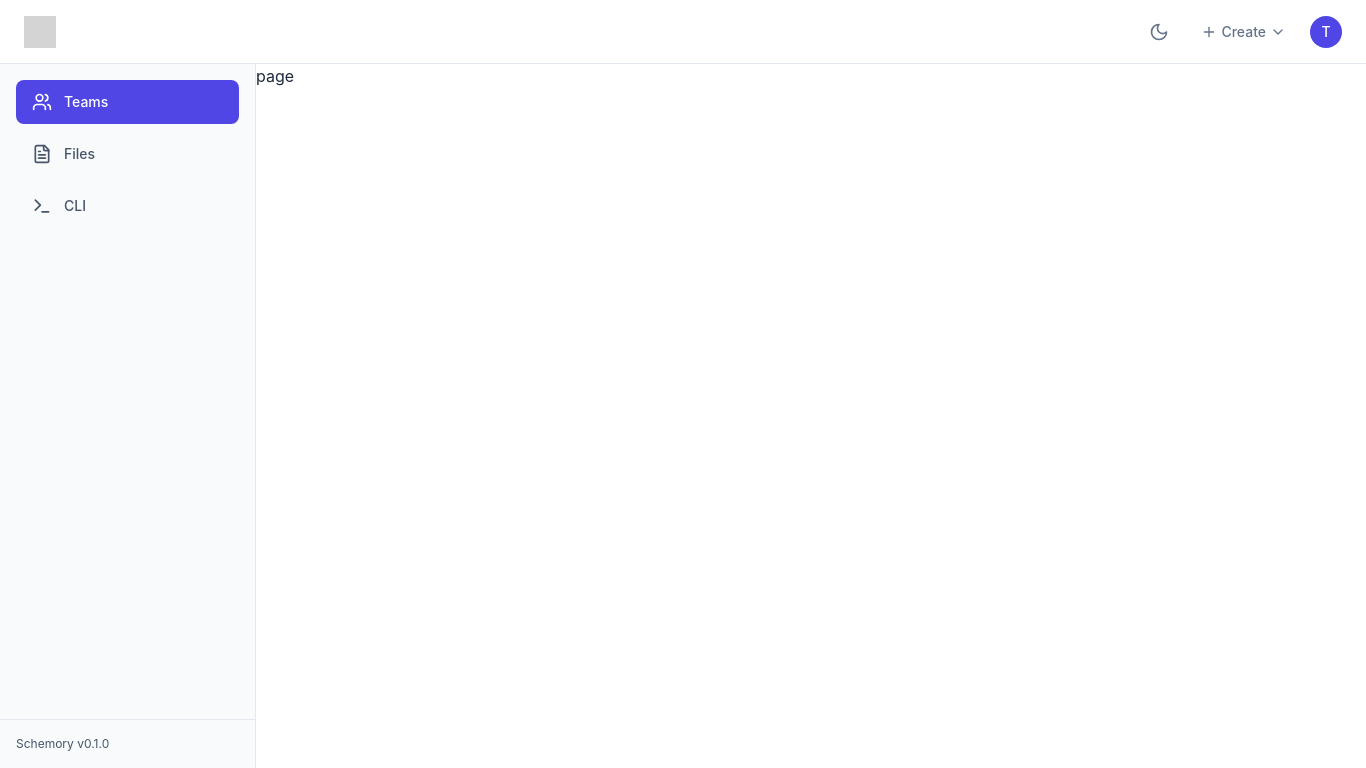
Test: Layout + Create actions wiring › opens Create Team modal from header without Layout overriding handlers
This screenshot has width=1366, height=768.
Click the button with aria-label "Create new".
click(1244, 32)  # box [1193,14,1294,50]
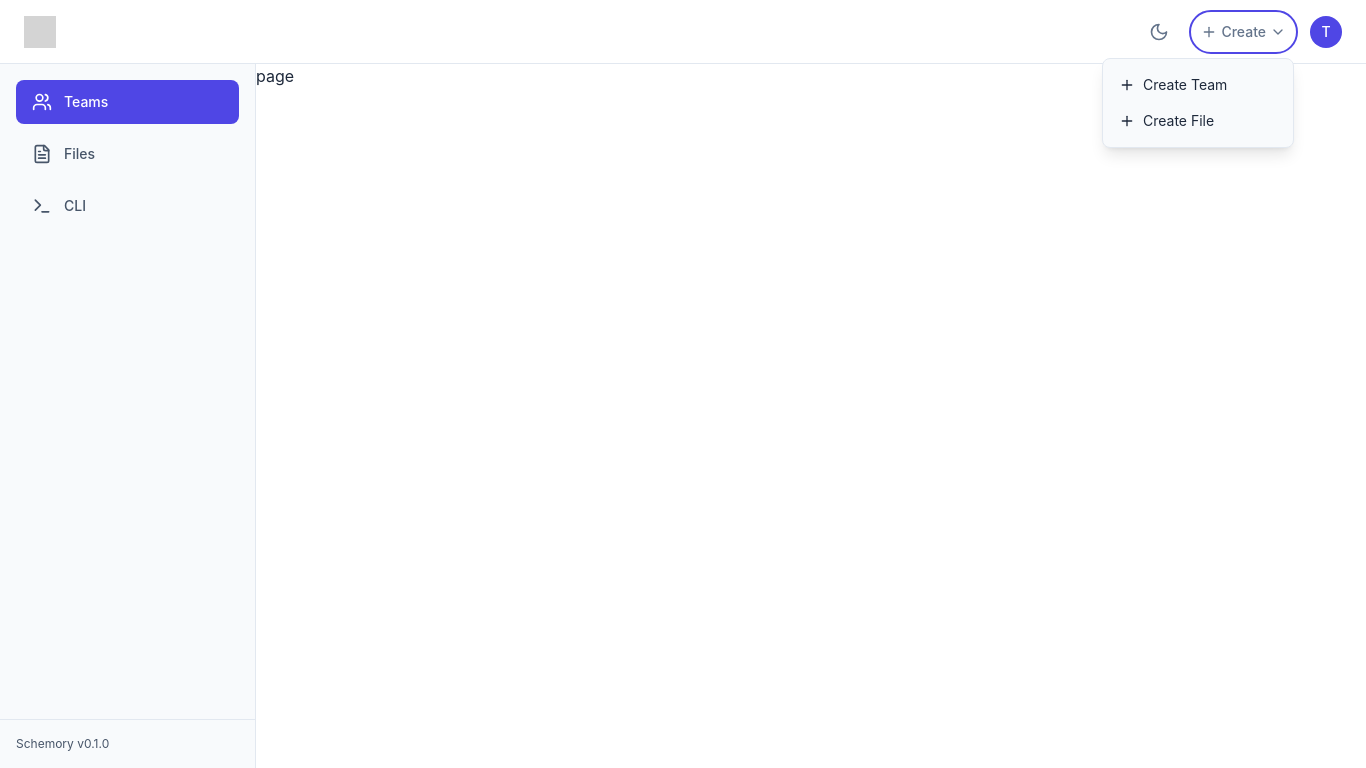
Click the button "Create Team".
click(1198, 84)  # box [1103,66,1293,102]
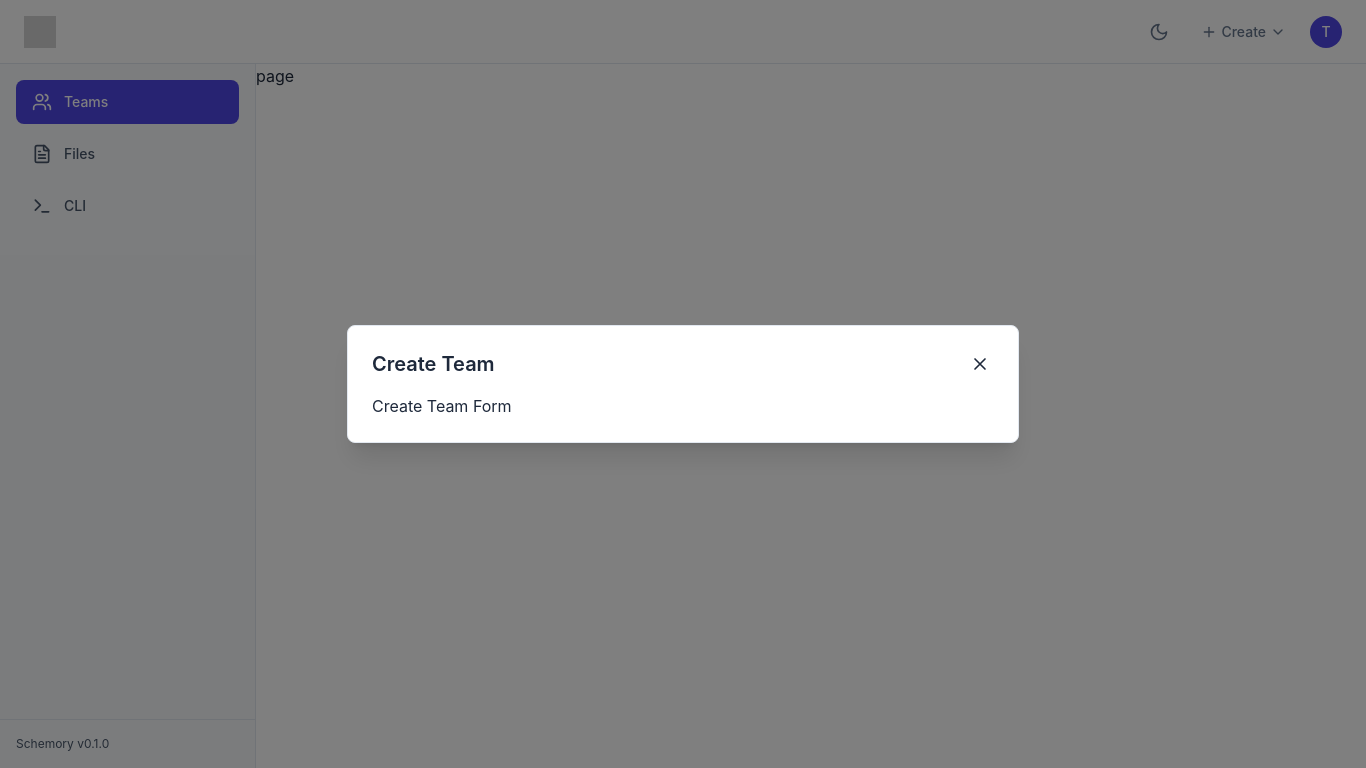
Now the text "Create Team Form" is shown, box [372,396,512,416]
